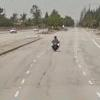Motorcycle: (48, 35, 63, 56)
